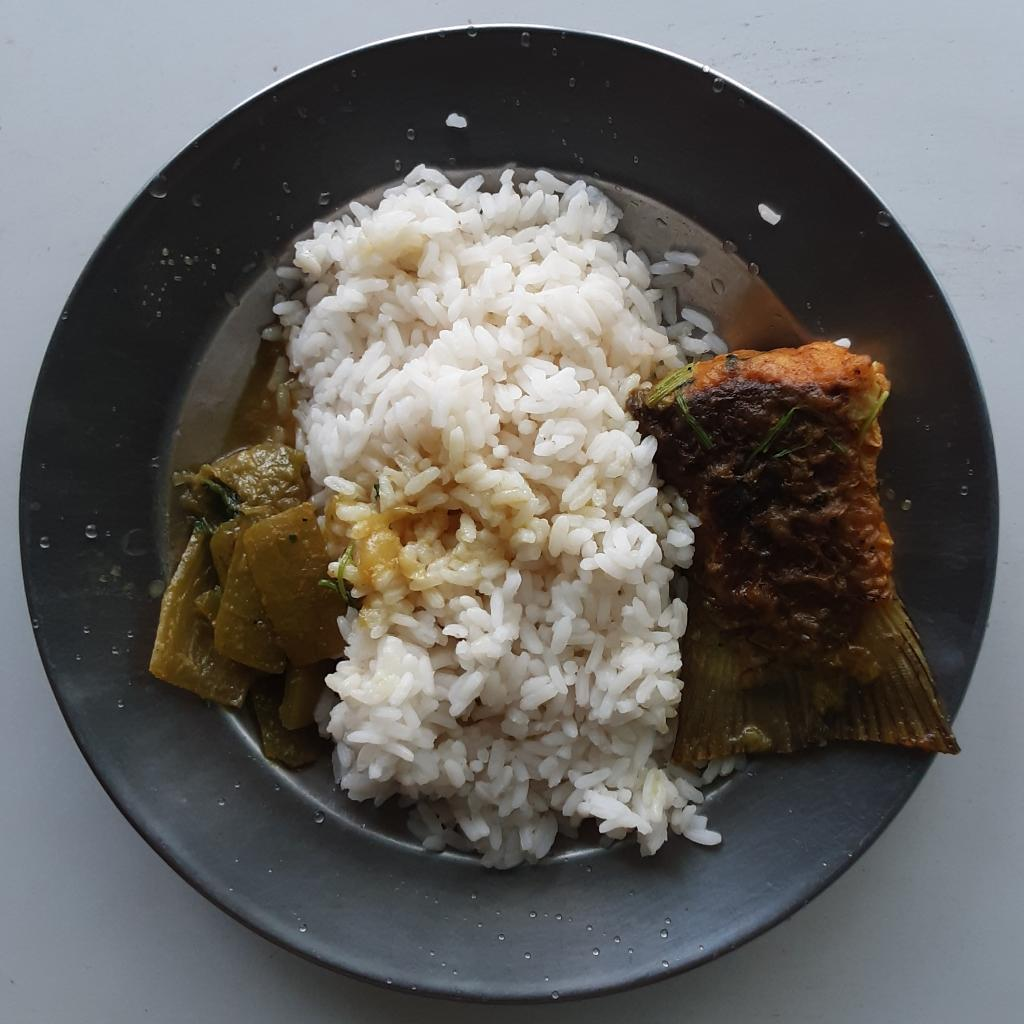dundol: (146, 446, 353, 773)
fish: (634, 339, 961, 770)
rice: (267, 167, 749, 870)
